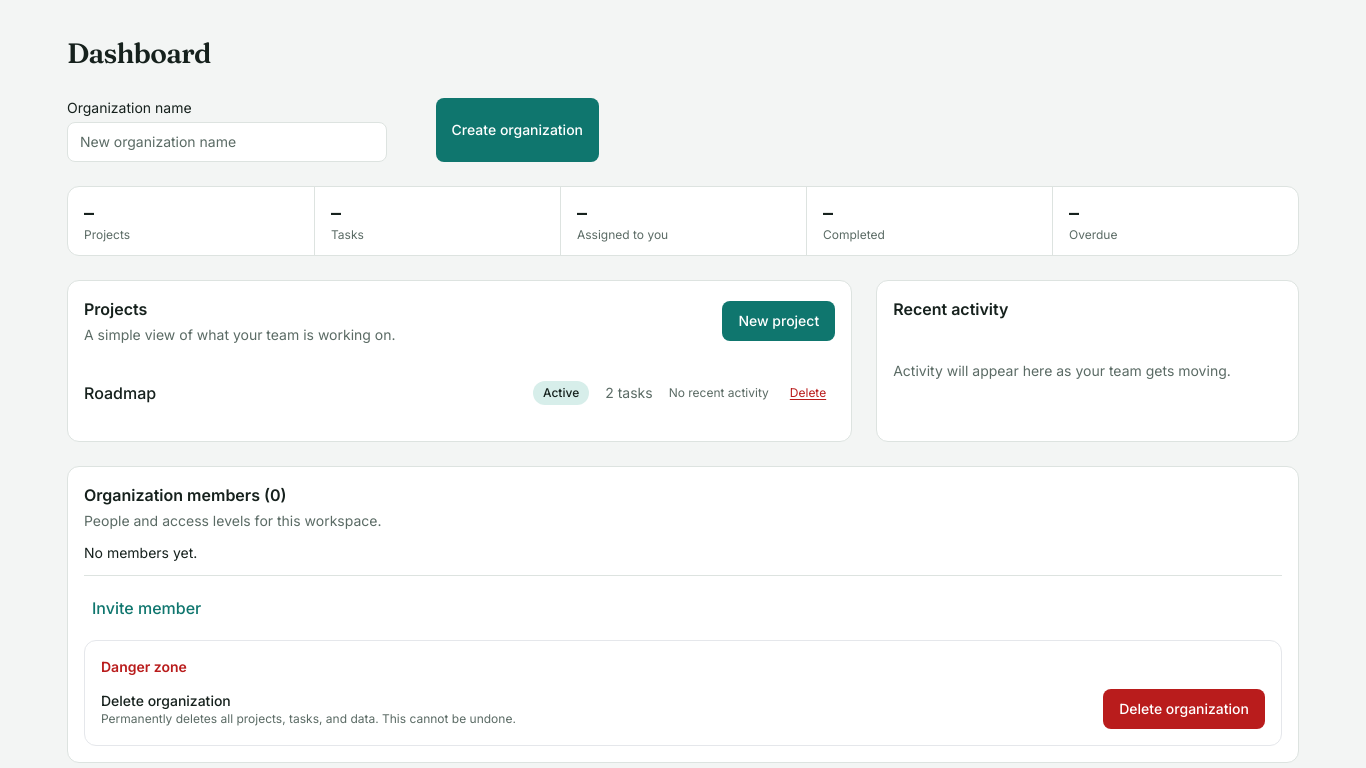
Test: delete project confirmation › keeps the dialog open and displays an API failure
Click the button with aria-label "Delete project Roadmap" at x=808, y=393, box top-left (781, 371), bottom-right (835, 415)
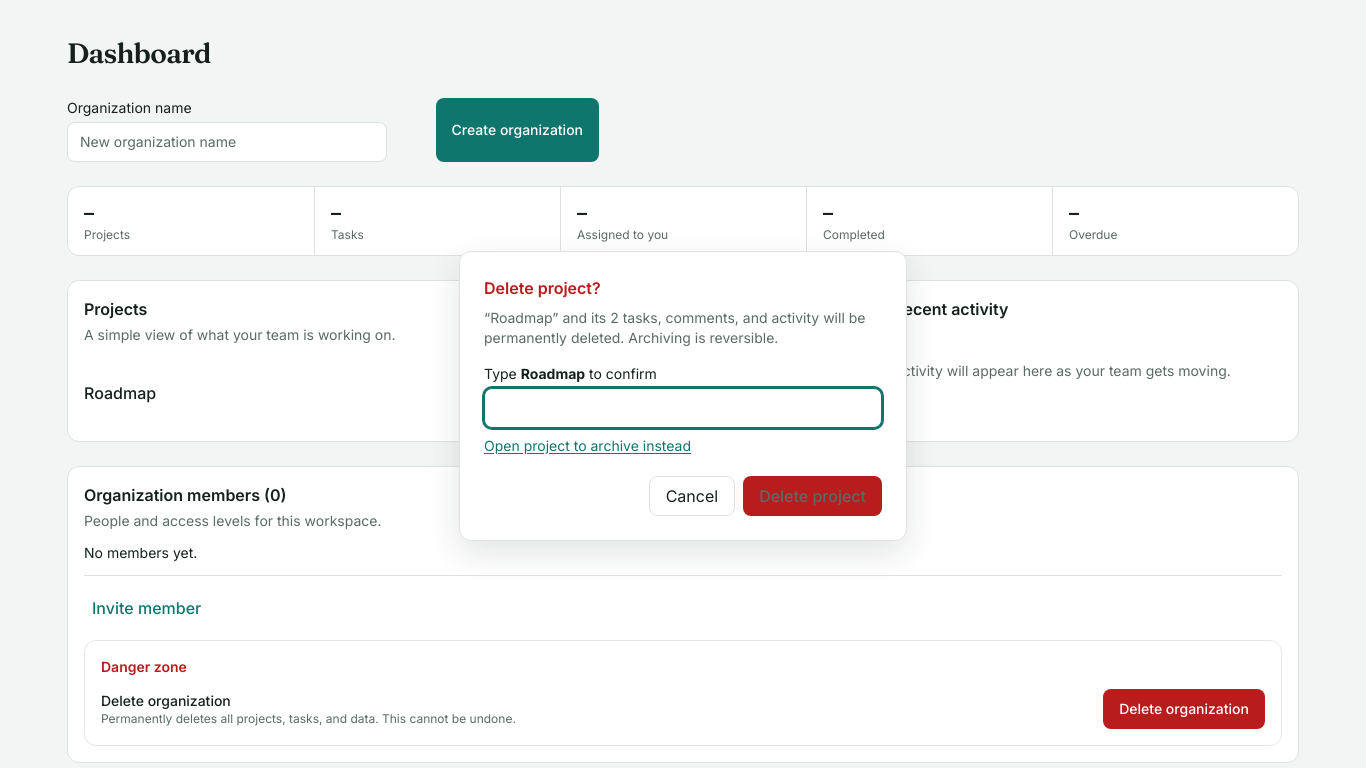
Type "Roadmap" into the field named "Project name confirmation" at x=683, y=408, box top-left (484, 388), bottom-right (882, 428)
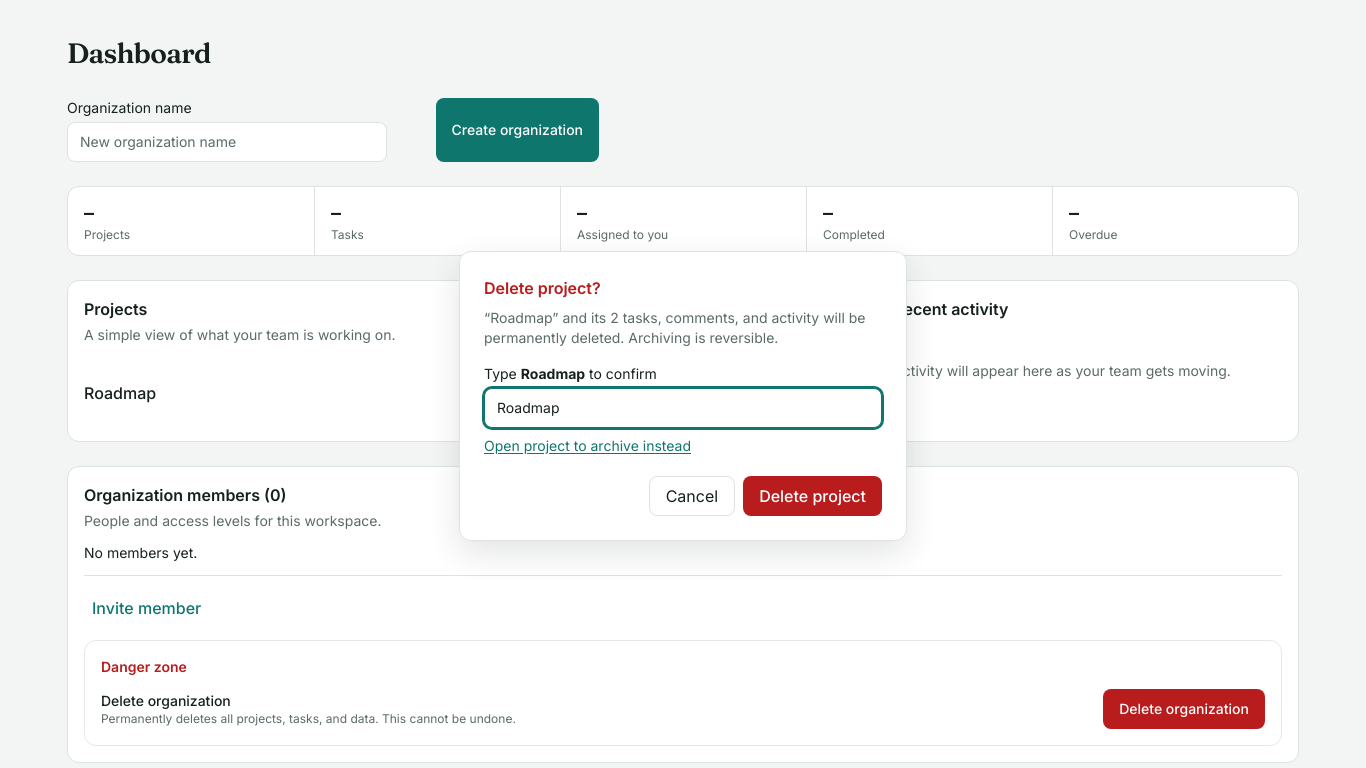
Click the button "Delete project" at x=813, y=496, box top-left (743, 476), bottom-right (882, 516)
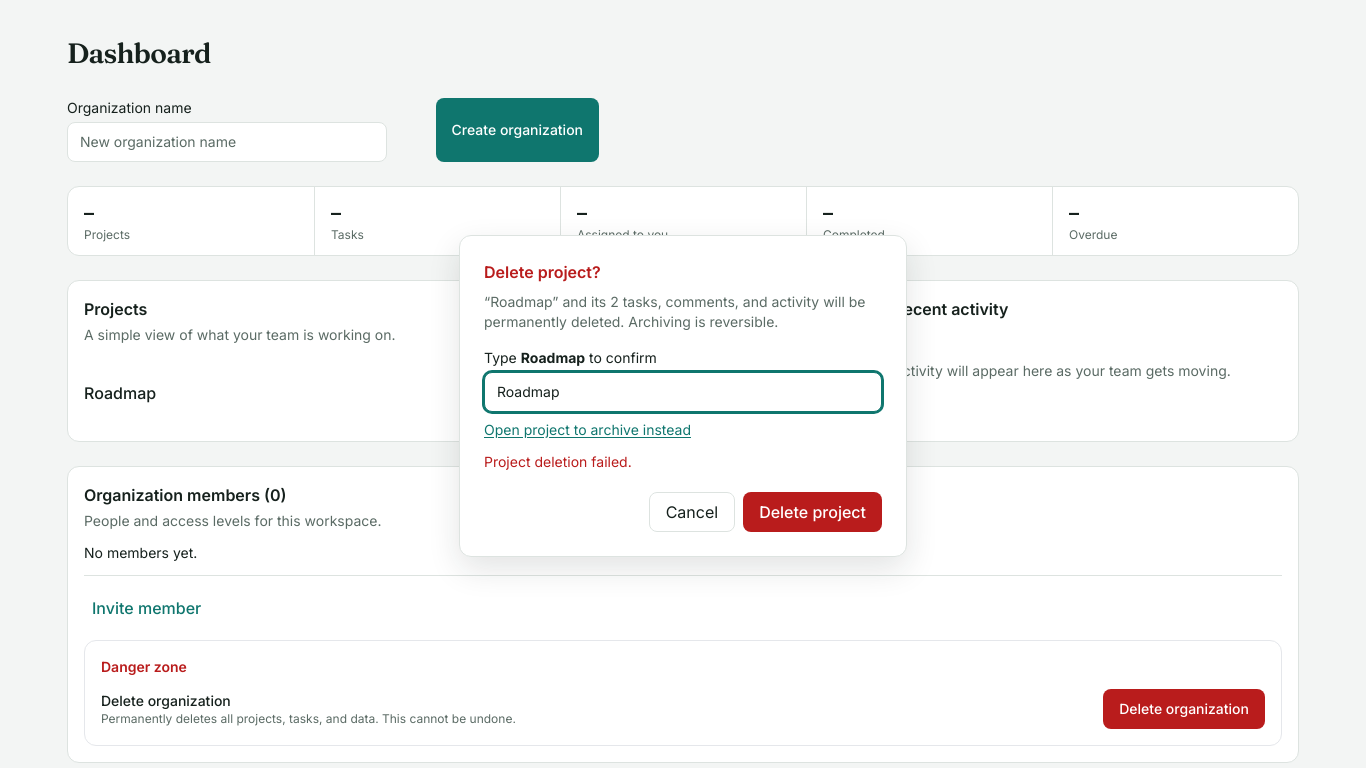
Expected: the dialog "Delete project?" is shown, top-left (459, 235), bottom-right (907, 557)
Expected: the message reads "Project deletion failed.", top-left (484, 453), bottom-right (632, 470)
